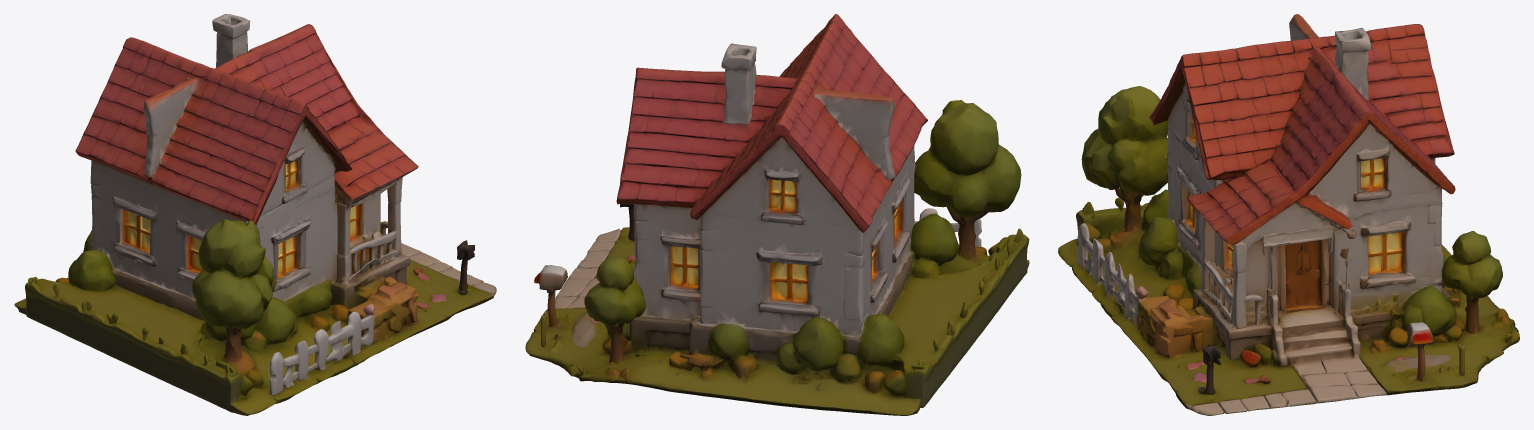
3 renders of one model, left to right at view 1: azimuth 30°, elevation 25°; view 2: azimuth 150°, elevation 25°; view 3: azimuth 270°, elevation 25°, orthographic. The views are drawn at different scales.
Parts seen in each view (by area): view 1: tripo_node_ff57398a-df46-427c-b441-92d5cafb15e3; view 2: tripo_node_ff57398a-df46-427c-b441-92d5cafb15e3; view 3: tripo_node_ff57398a-df46-427c-b441-92d5cafb15e3.
Boxes of the visible parts, x1=… form: tripo_node_ff57398a-df46-427c-b441-92d5cafb15e3: x1=14, y1=14, x2=496, y2=415; tripo_node_ff57398a-df46-427c-b441-92d5cafb15e3: x1=525, y1=14, x2=1029, y2=415; tripo_node_ff57398a-df46-427c-b441-92d5cafb15e3: x1=1058, y1=14, x2=1519, y2=415.
Size of the model in its own units: 1 by 0.6651 by 0.9889.
Materials: 1 (1 with a texture image).
